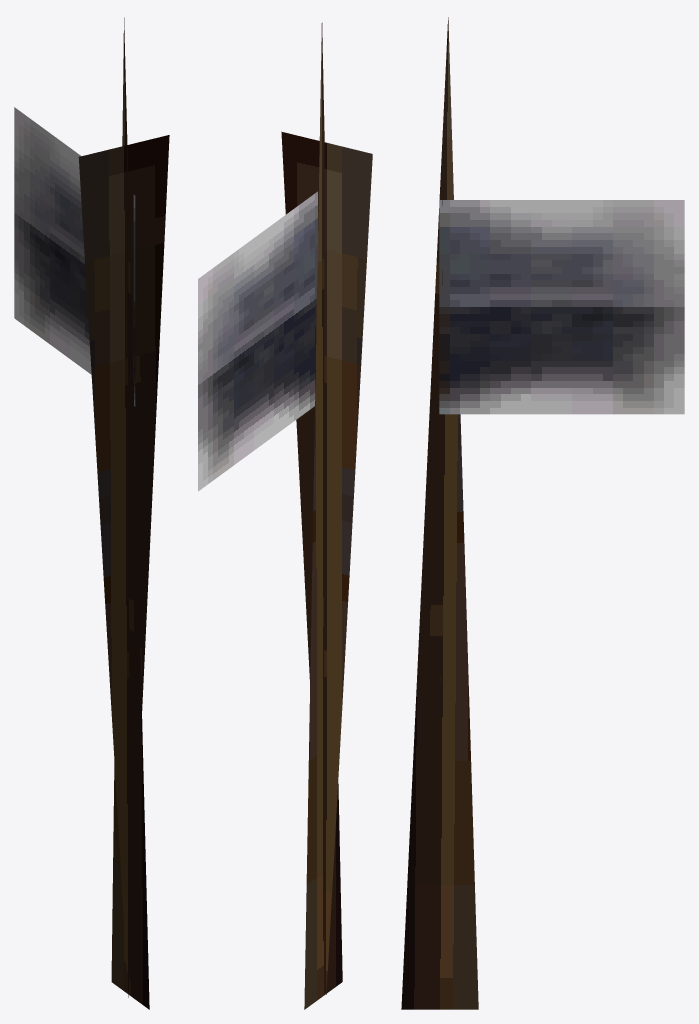
Rendered from attachments_e_axe_2handed_standard.glb.
3 renders of one model, left to right at view 1: azimuth 30°, elevation 25°; view 2: azimuth 150°, elevation 25°; view 3: azimuth 270°, elevation 25°, orthographic.
Visible parts, largest first — view 1: MeshRoot; view 2: MeshRoot; view 3: MeshRoot.
Part boxes in pixels (x1,y1,x2,y2): MeshRoot: [14, 17, 169, 1009]; MeshRoot: [198, 22, 372, 1009]; MeshRoot: [401, 17, 684, 1009].
Bounding box in the file's own units: 0.1177 × 1.21 × 0.313.
Materials: 1 (1 with a texture image).
